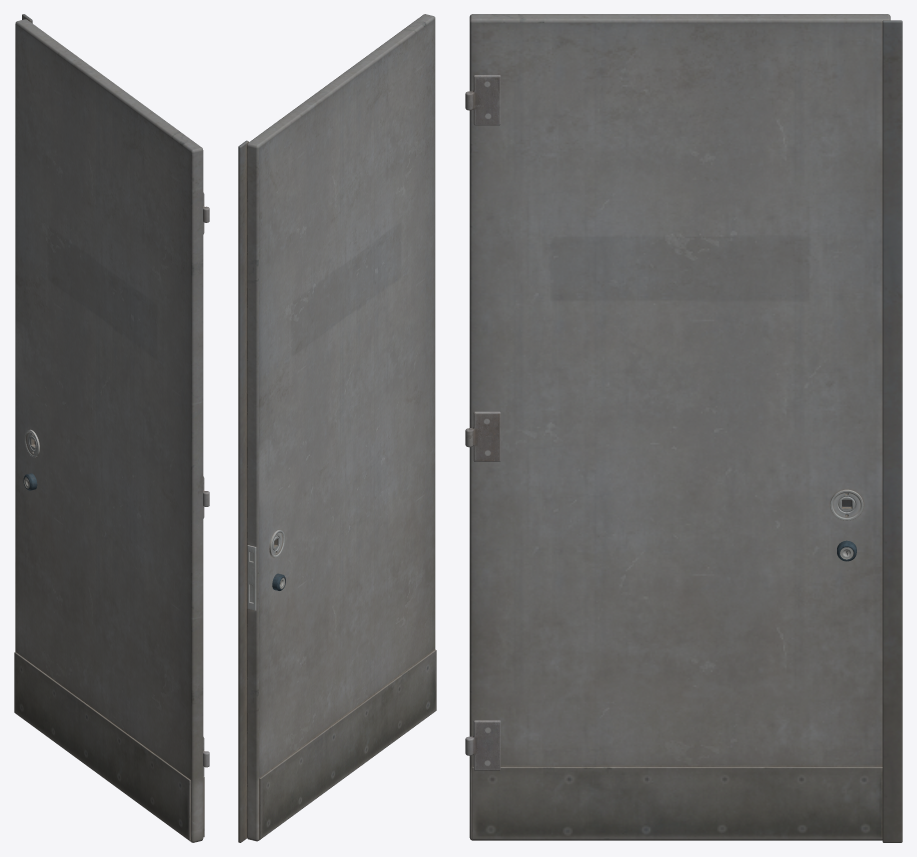
Rendered from SM_RightDoor_01.fbx.
3 views of the same model, side by side, from view 1: azimuth 30°, elevation 25°; view 2: azimuth 150°, elevation 25°; view 3: azimuth 270°, elevation 25° (orthographic). The views are drawn at different scales.
Visible parts, largest first — view 1: SM_RightDoor_01_LOD0; view 2: SM_RightDoor_01_LOD0; view 3: SM_RightDoor_01_LOD0.
Boxes of the visible parts, box(x1,y1,x2,y2) form: SM_RightDoor_01_LOD0: box(14, 14, 209, 842); SM_RightDoor_01_LOD0: box(238, 14, 436, 842); SM_RightDoor_01_LOD0: box(465, 14, 902, 842).
Bounding box in the file's own units: 8 × 105 × 218.
